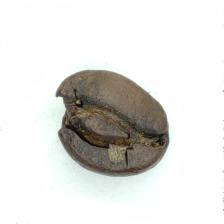NG: (54, 88, 135, 167)
